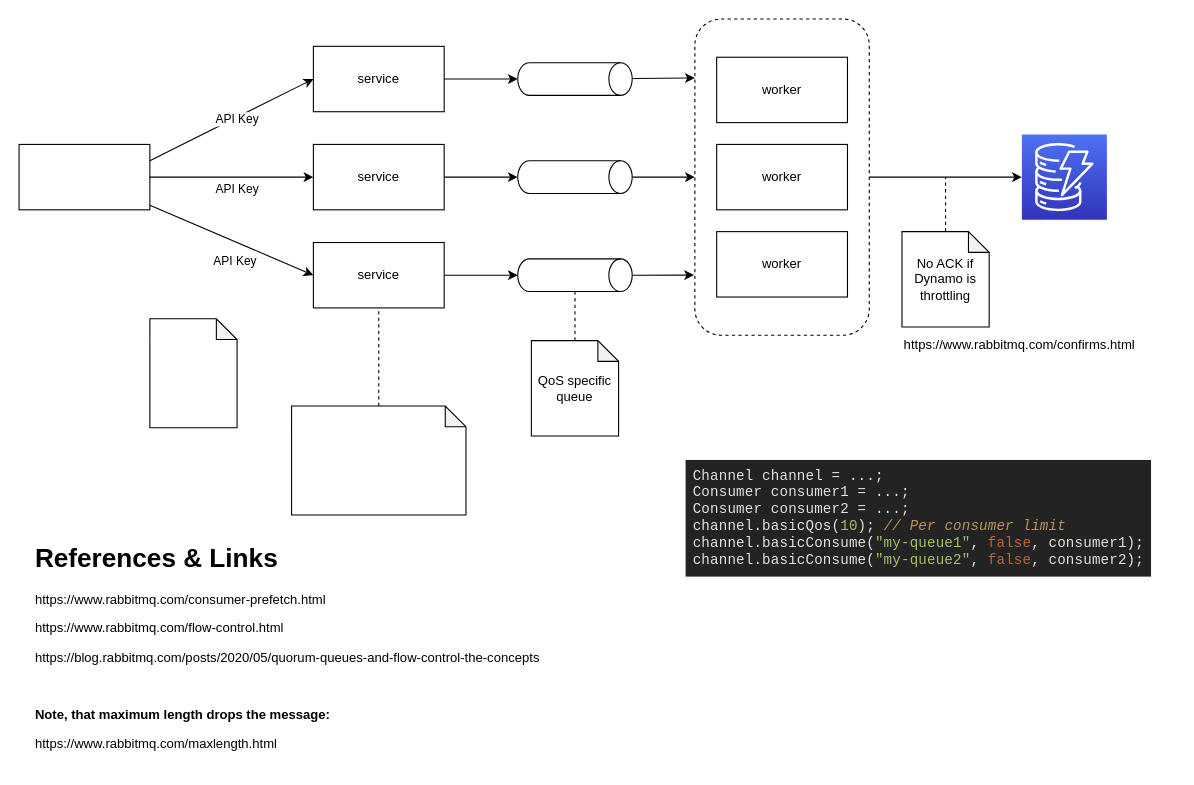
Image size: 1194x785. Some labels were removed from this diagram. Here are the shapes that lost their labels. From the top down, the box of each, then its label:
(18, 143, 150, 210): consumer
(694, 18, 869, 335): Scaling Unifically
(149, 318, 237, 428): Create queue by API key if required
(290, 405, 466, 515): API Key = QoS mapping
